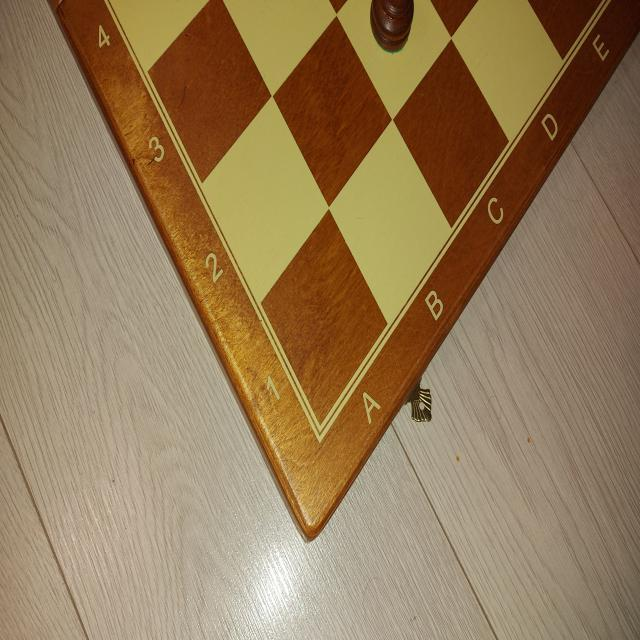chess-table-corners: (292, 376, 350, 474)
